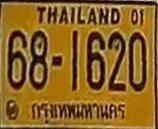0: (128, 31, 146, 89)
1: (70, 30, 80, 90)
2: (107, 30, 126, 92)
6: (7, 28, 28, 90), (86, 30, 106, 90)
8: (30, 30, 48, 89)
BKK: (25, 98, 129, 127)
